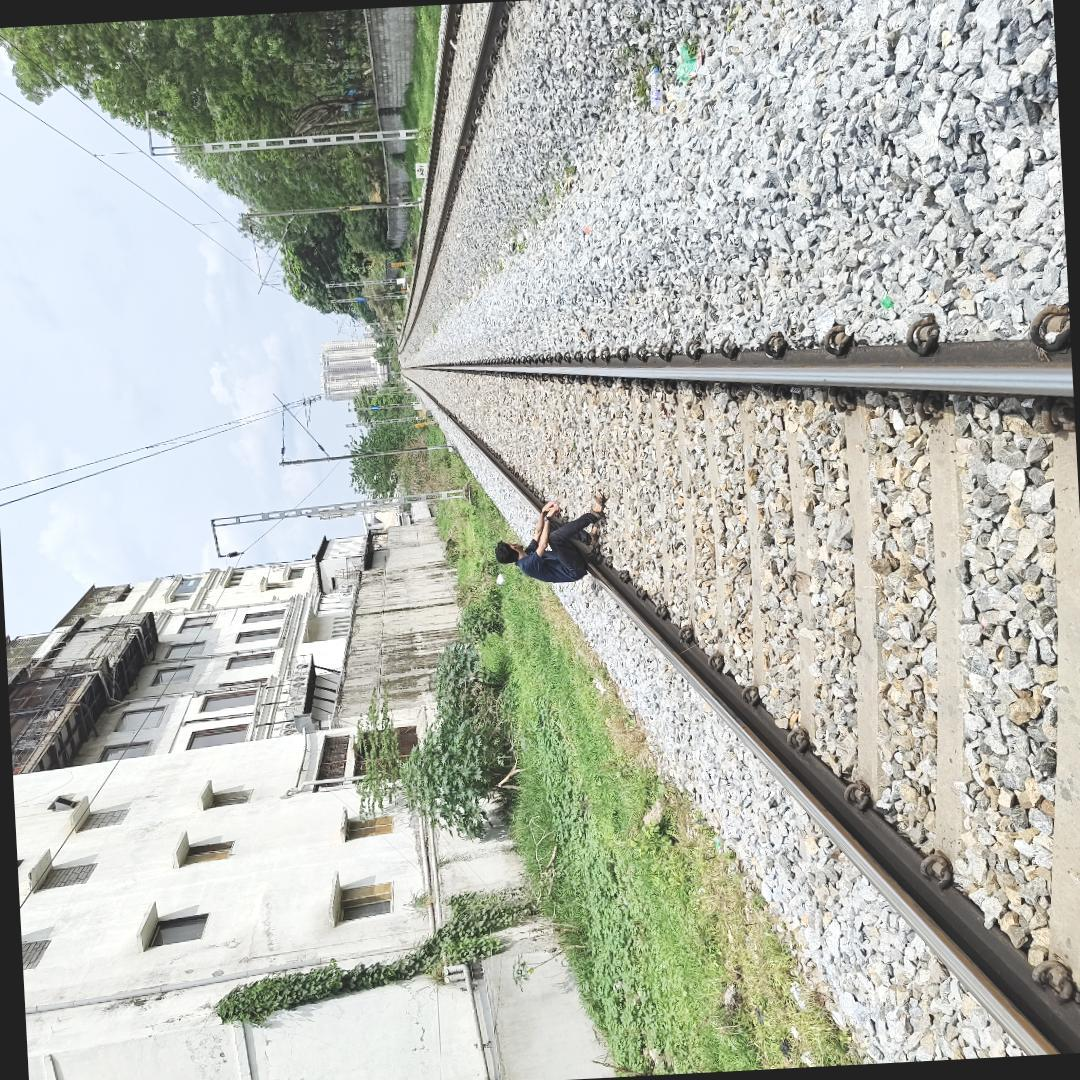sitting: (481, 479, 634, 610)
track: (393, 218, 1080, 1062)
